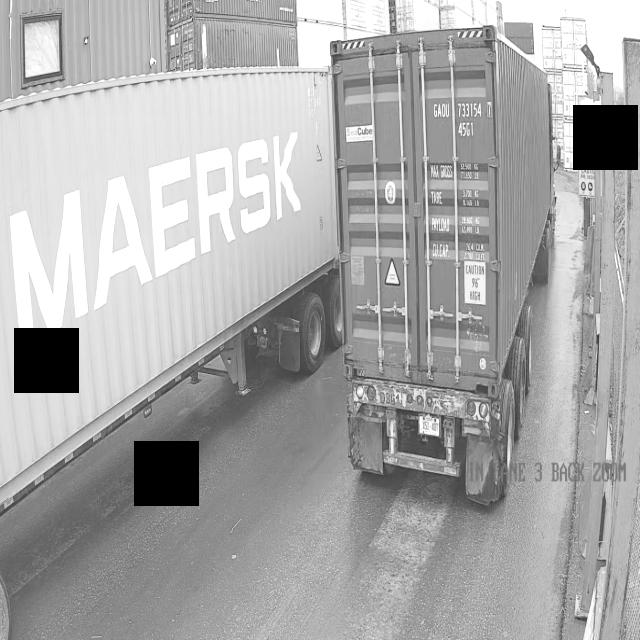container_company_logo: (5, 106, 309, 363), (341, 116, 379, 148)
container_number: (431, 96, 494, 149)
license_plate: (418, 410, 442, 435)
truck_with_container: (0, 67, 338, 512), (332, 25, 558, 504)
